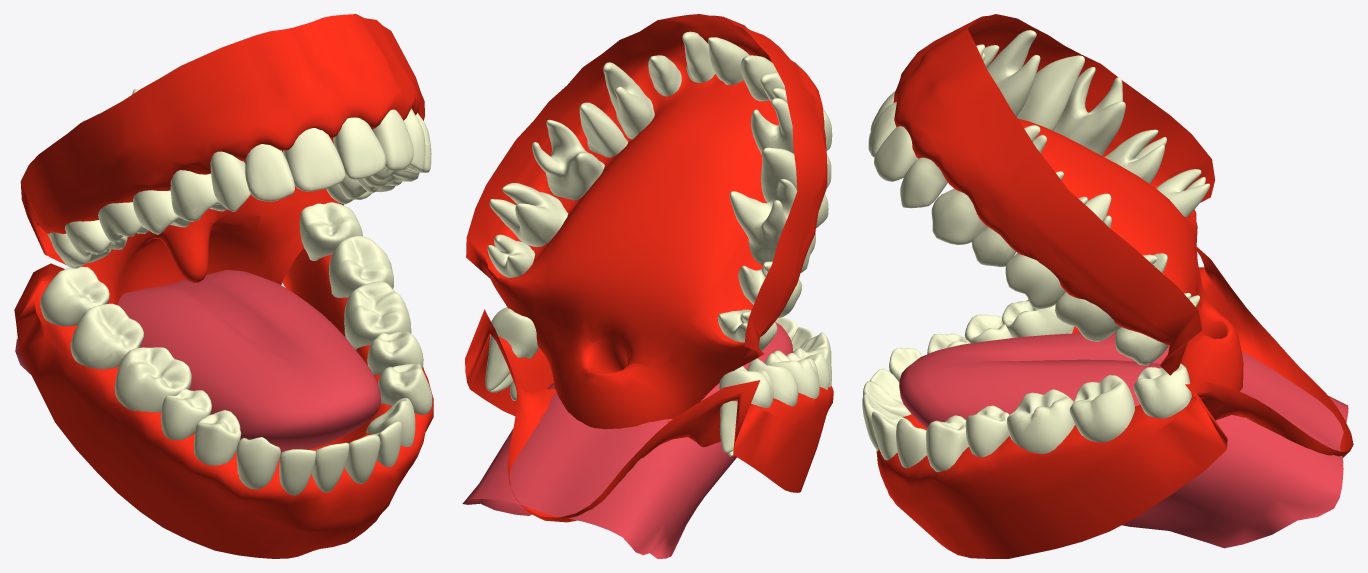
The model's file is dentaldrcaras.gltf.
The picture shows the model from 3 angles, left to right: view 1: azimuth 30°, elevation 25°; view 2: azimuth 150°, elevation 25°; view 3: azimuth 270°, elevation 25°; orthographic projection. The views are drawn at different scales.
Visible parts, largest first — view 1: Gums, Gums.001, Gums.002, t46, t47, t36, t48, t37, t11, t38, t21, t12 (+21 smaller); view 2: Gums, Gums.002, Gums.001, t26, t16, t27, t38, t24, t48, t14, t25, t15 (+10 smaller); view 3: Gums, Gums.001, Gums.002, t16, t37, t36, t15, t26, t24, t14, t38, t27 (+16 smaller).
Boxes of the visible parts, x1,y1,x2,y2 form: Gums: [20, 14, 424, 304]; Gums.001: [14, 203, 433, 558]; Gums.002: [15, 270, 380, 452]; t46: [114, 347, 191, 412]; t47: [70, 303, 143, 369]; t36: [344, 281, 411, 349]; t48: [40, 266, 109, 326]; t37: [329, 236, 393, 297]; t11: [283, 128, 345, 191]; t38: [299, 202, 362, 260]; t21: [333, 117, 386, 179]; t12: [245, 144, 294, 201]; Gums: [466, 14, 827, 429]; Gums.002: [462, 321, 793, 558]; Gums.001: [465, 309, 833, 522]; t26: [532, 119, 604, 200]; t16: [729, 179, 815, 272]; t27: [489, 183, 567, 246]; t38: [485, 307, 538, 392]; t24: [603, 62, 654, 139]; t48: [719, 366, 773, 456]; t14: [751, 98, 831, 187]; t25: [579, 102, 627, 157]; t15: [761, 147, 828, 228]; Gums: [893, 14, 1243, 396]; Gums.001: [876, 247, 1353, 558]; Gums.002: [899, 332, 1348, 548]; t16: [1054, 67, 1125, 155]; t37: [1069, 375, 1134, 442]; t36: [1007, 389, 1075, 453]; t15: [1016, 55, 1084, 130]; t26: [1005, 193, 1111, 309]; t24: [931, 125, 1046, 244]; t14: [986, 30, 1040, 116]; t38: [1133, 363, 1191, 418]; t27: [1055, 253, 1167, 341].
Bounding box in the file's own units: 2.07 × 3.02 × 2.69.
